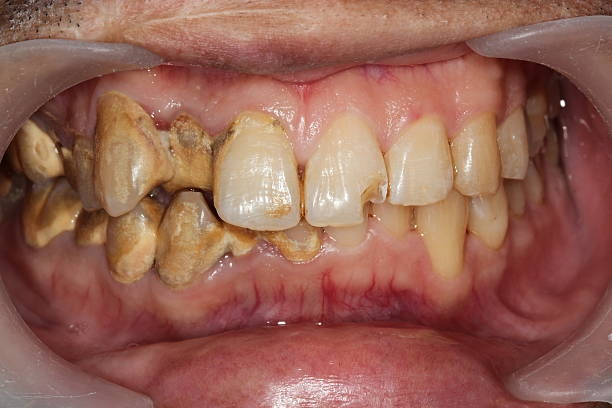Gingivitis: (210, 268, 430, 326)
